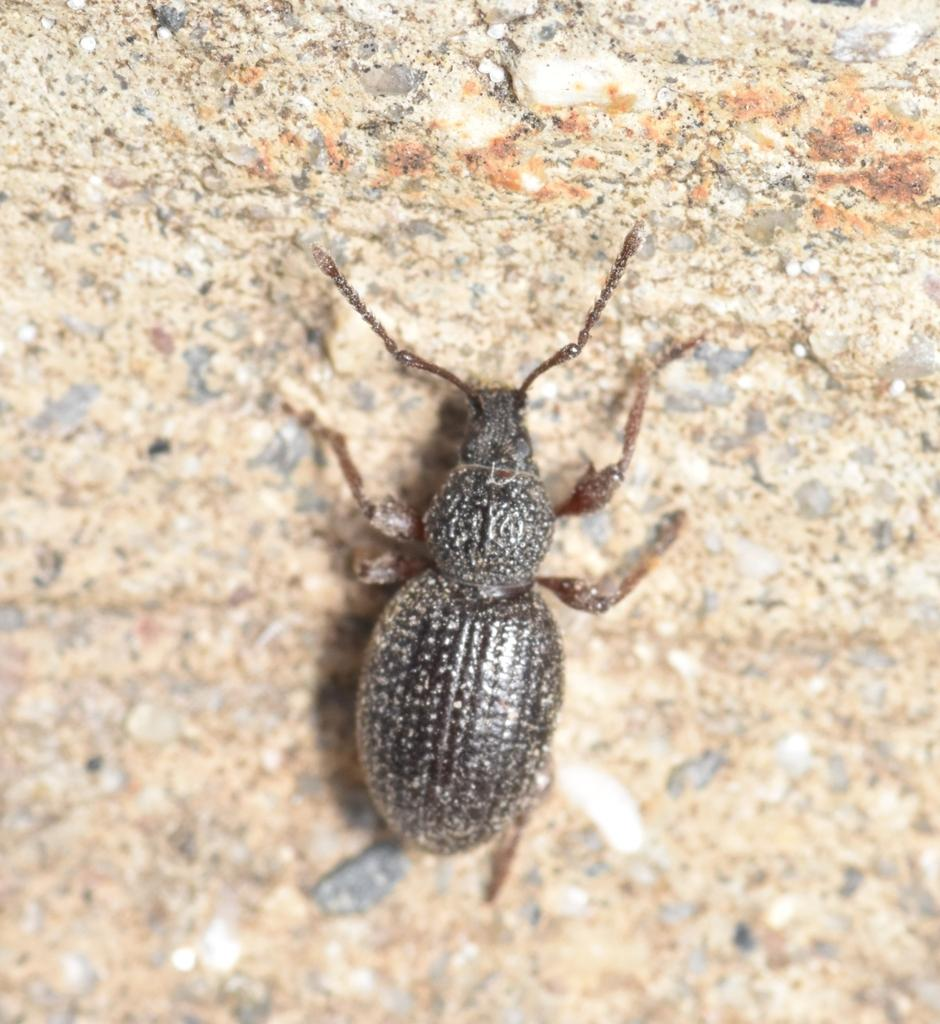weevils: (211, 181, 796, 966)
